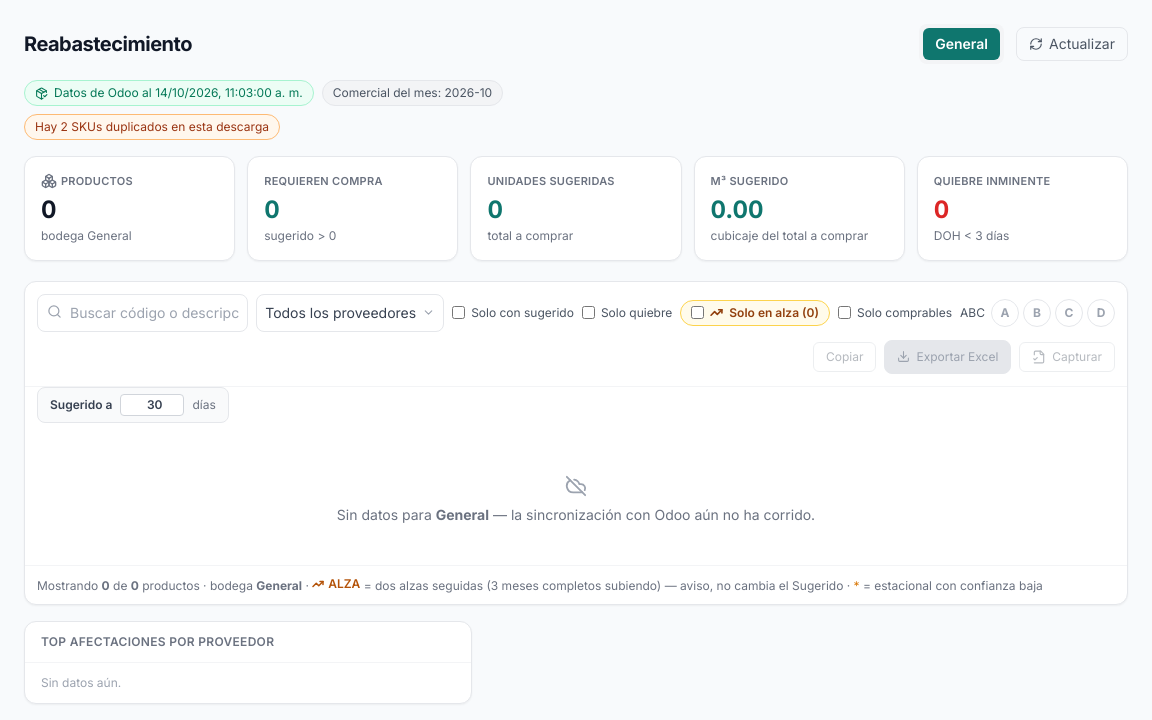
Test case: la pastilla abre Revisar con la fila que se usa y las que no
The width and height of the screenshot is (1152, 720).
Click the button "Hay 2 SKUs duplicados en esta descarga".
click(152, 127)  # box [24,114,280,140]
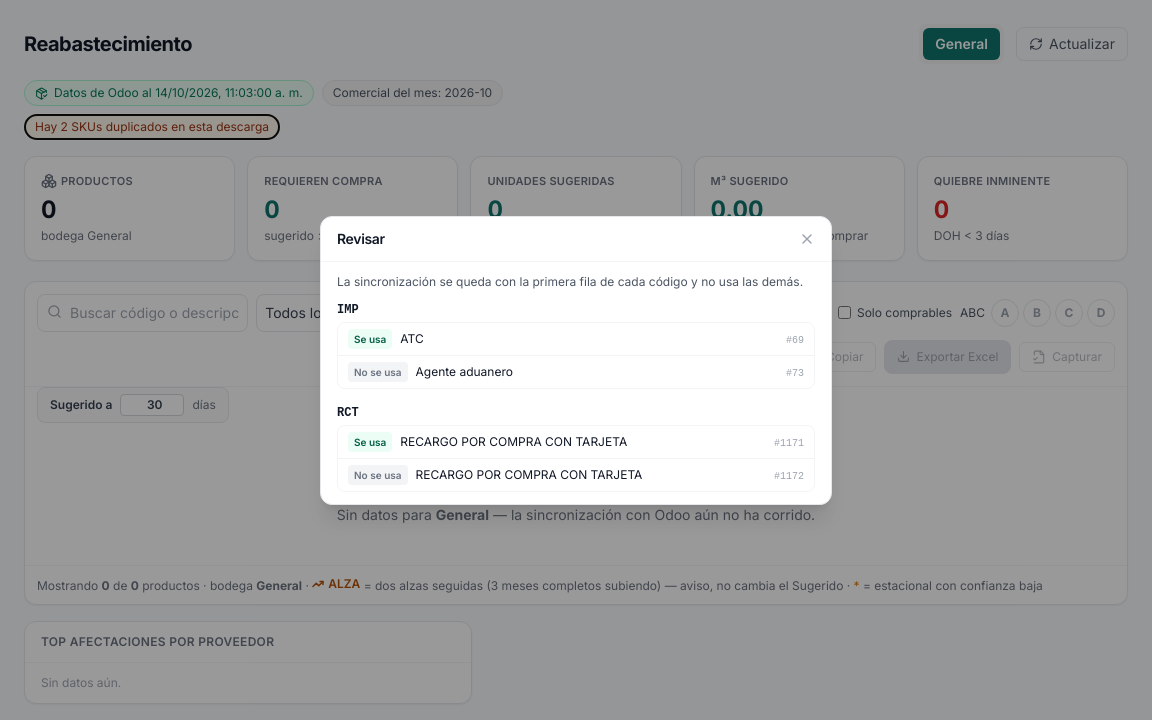
Check: the dialog "Revisar" shows "La sincronización se queda con la primera fila de cada código", box [337,274,803,288]
Check: the dialog "Revisar" shows "IMP", box [337,302,359,316]
Check: the dialog "Revisar" shows "ATC", box [400,330,424,346]
Click the button named "Cerrar".
click(807, 238)  # box [799,230,815,246]
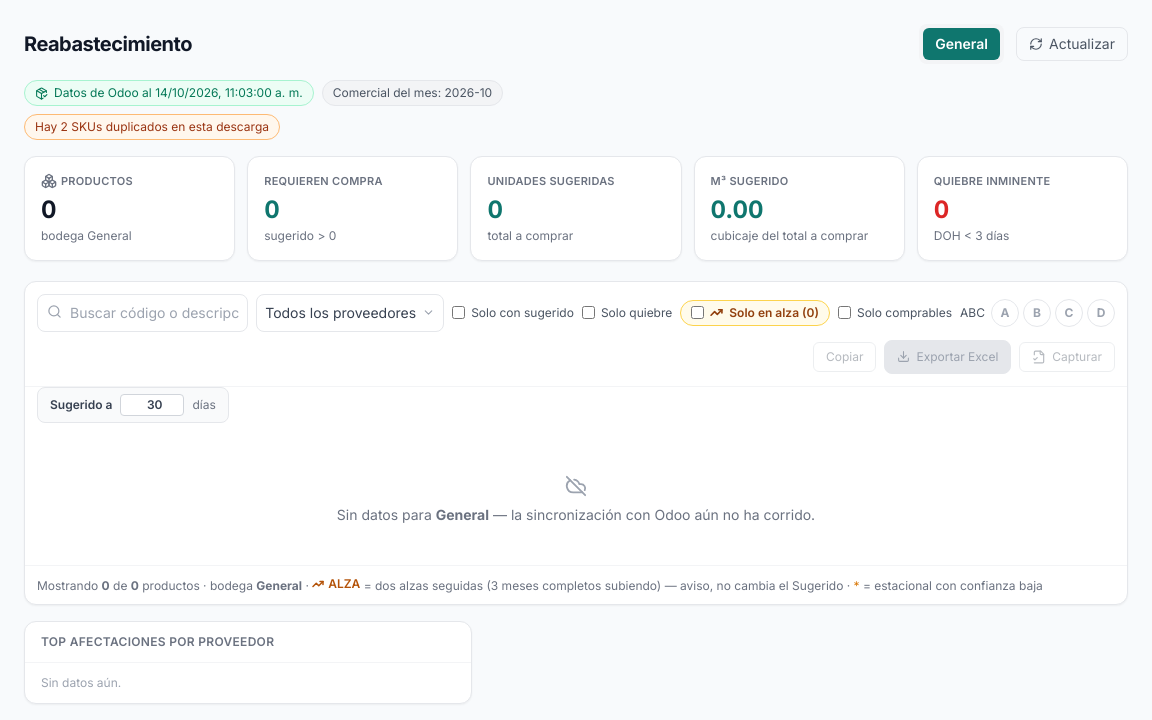
Check: the heading "Revisar" is gone
